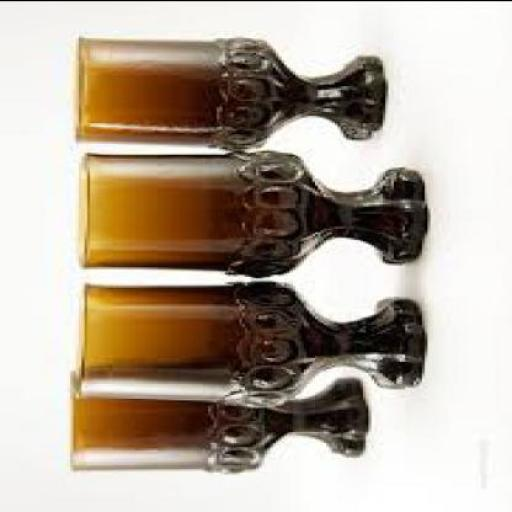glass: (76, 145, 425, 275), (73, 279, 422, 399), (76, 31, 386, 146), (68, 368, 368, 468)
